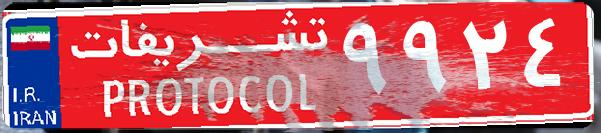2: (460, 20, 520, 115)
4: (520, 20, 580, 115)
9: (340, 20, 400, 115), (400, 20, 460, 115)
تشریفات: (60, 8, 340, 125)
